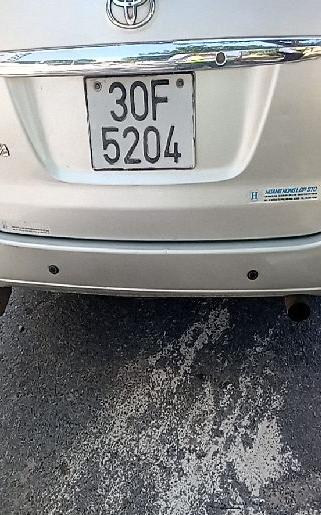Plate-iWeP: (83, 68, 202, 175)
